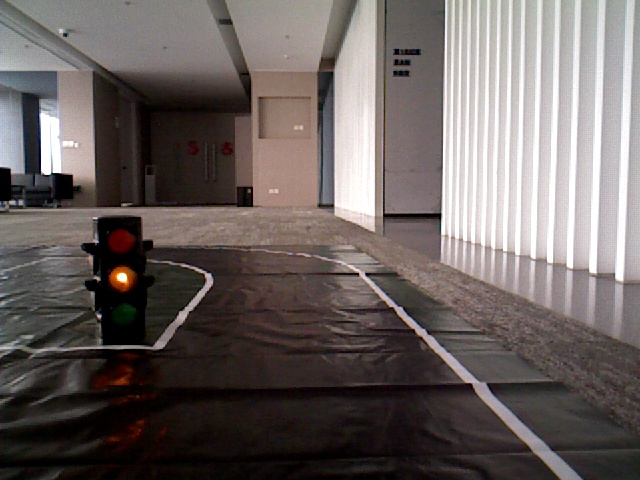yellow: (94, 217, 142, 328)
